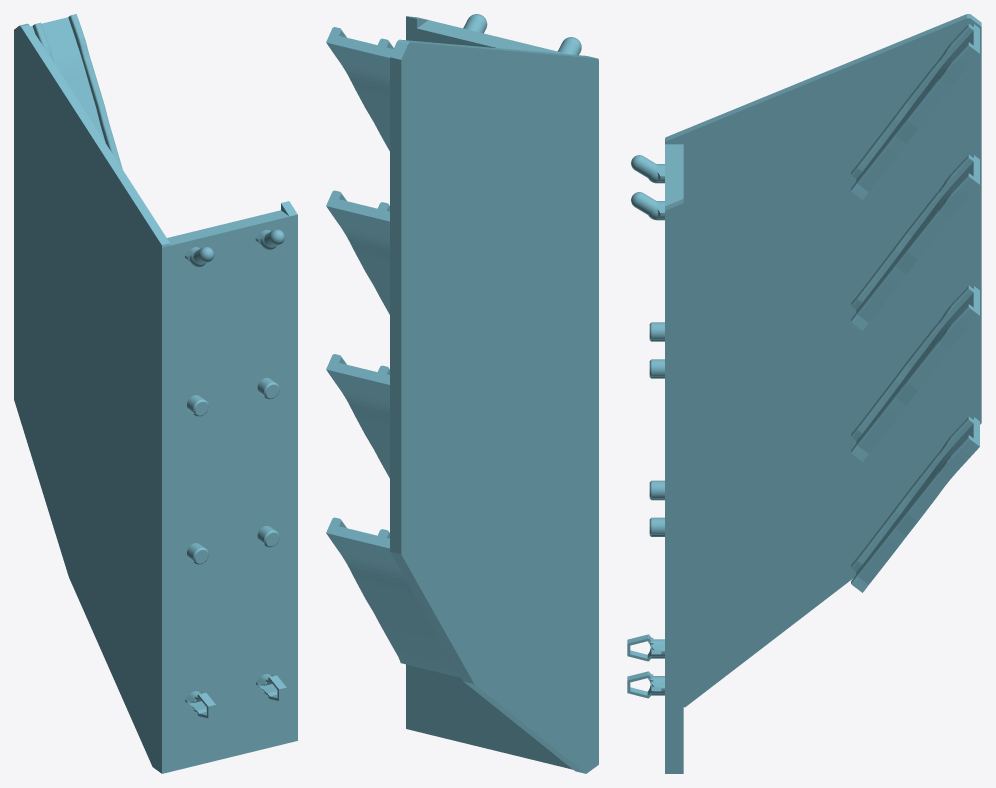
The model's file is part-tweezers-v10__current-mounts-v1__fit-pf02c9-hoop5__installed.glb.
The picture shows the model from 3 angles, left to right: view 1: azimuth 30°, elevation 25°; view 2: azimuth 150°, elevation 25°; view 3: azimuth 270°, elevation 25°; orthographic projection. The views are drawn at different scales.
Visible parts, largest first — view 1: installed.stl; view 2: installed.stl; view 3: installed.stl.
Boxes of the visible parts, x1,y1,x2,y2 form: installed.stl: [14, 14, 297, 773]; installed.stl: [326, 14, 598, 773]; installed.stl: [627, 14, 981, 773].
Size of the model in its own units: 0.0488 by 0.221 by 0.103.
